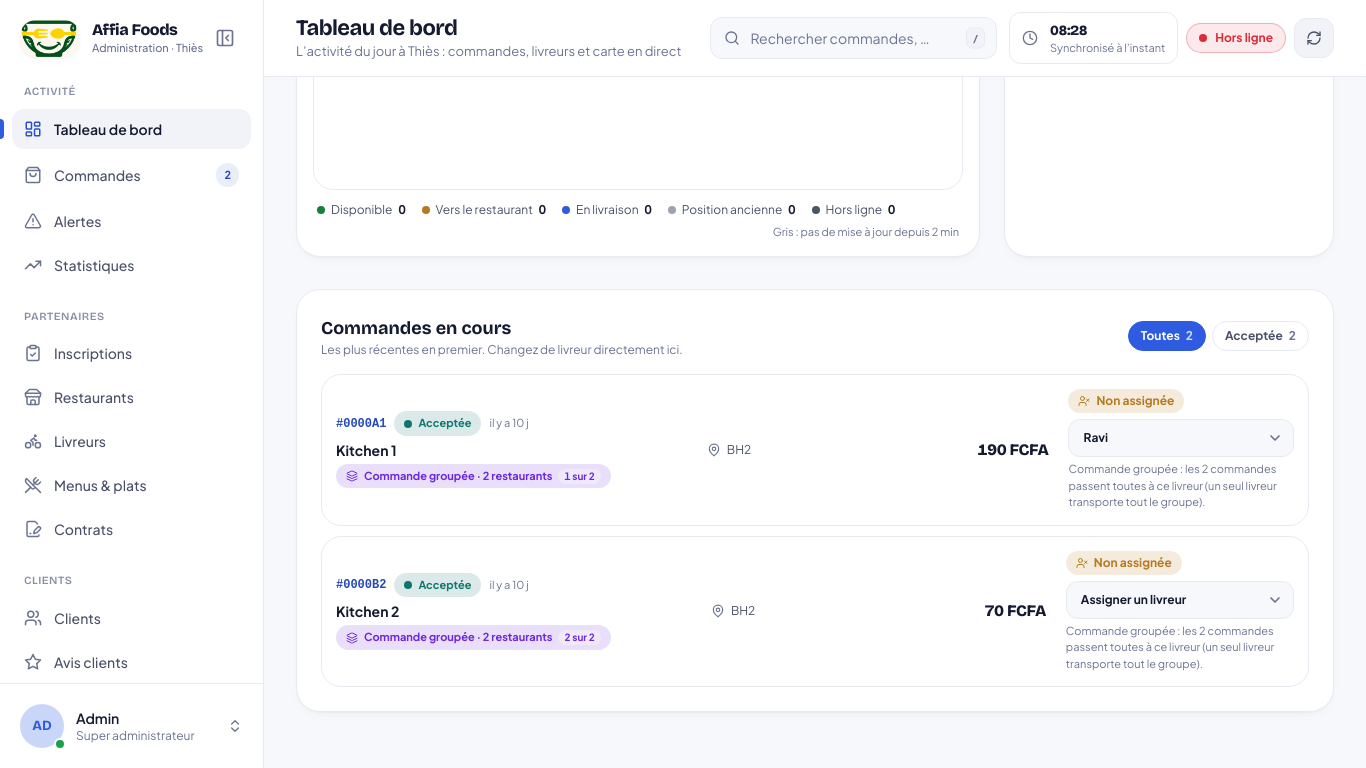
Test: combined orders in the app › assigning a rider says it moves the whole group, and the list is reloaded
(page scrolled)
Select "Ravi" in the dropdown named "Assigner le livreur de la commande #0000A1" at [1181, 438], box [1068,419,1294,457]
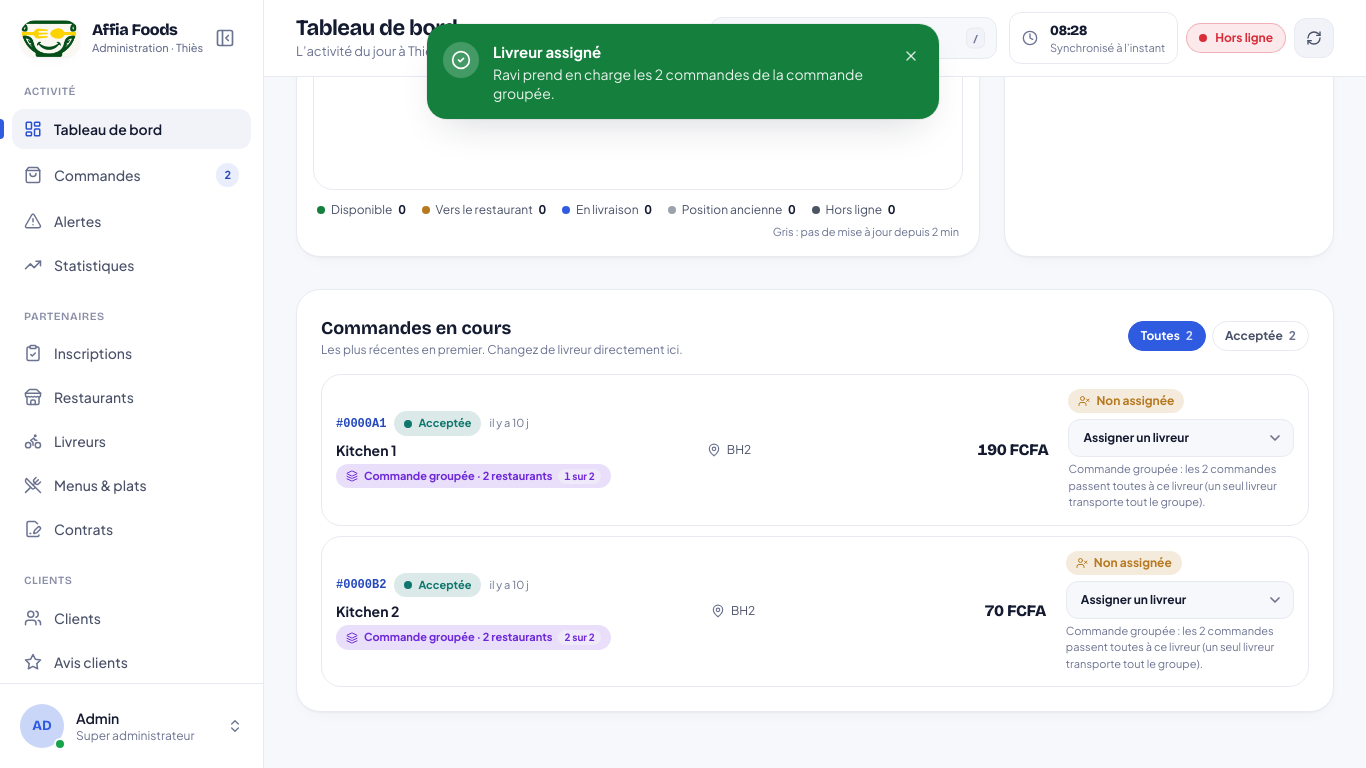
Expected: the text "Ravi prend en charge les 2 commandes de la commande groupée." is shown, [493,65,881,103]
